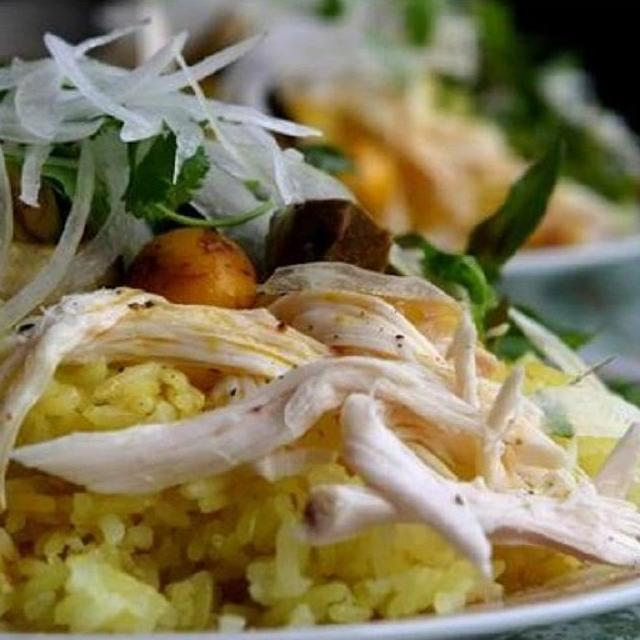com: (0, 448, 514, 640), (5, 346, 215, 446)
com ga: (0, 87, 640, 640)
thit ga: (0, 347, 640, 584), (0, 274, 169, 575), (0, 291, 349, 390)
trung: (114, 216, 264, 365)
